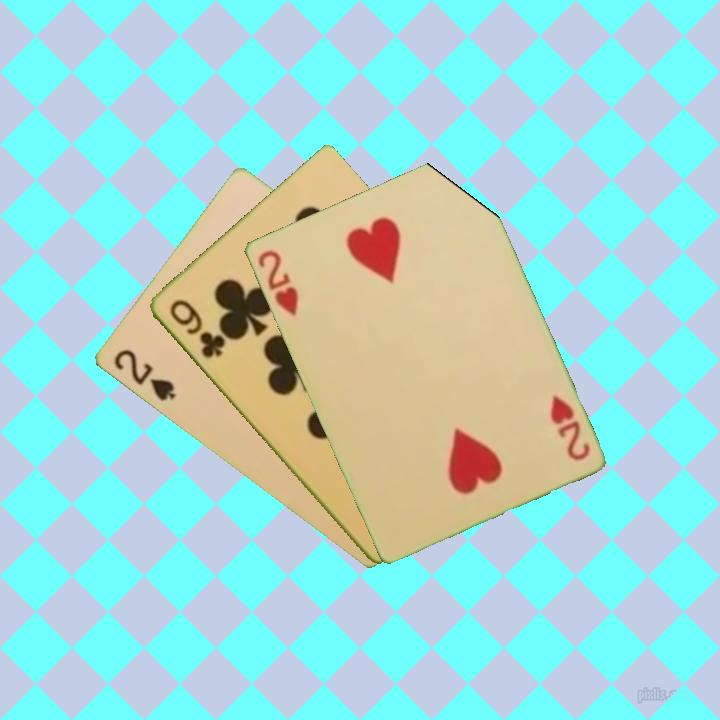2h: (253, 246, 301, 319), (546, 391, 592, 464)
2s: (109, 346, 178, 404)
9c: (165, 295, 227, 362)
